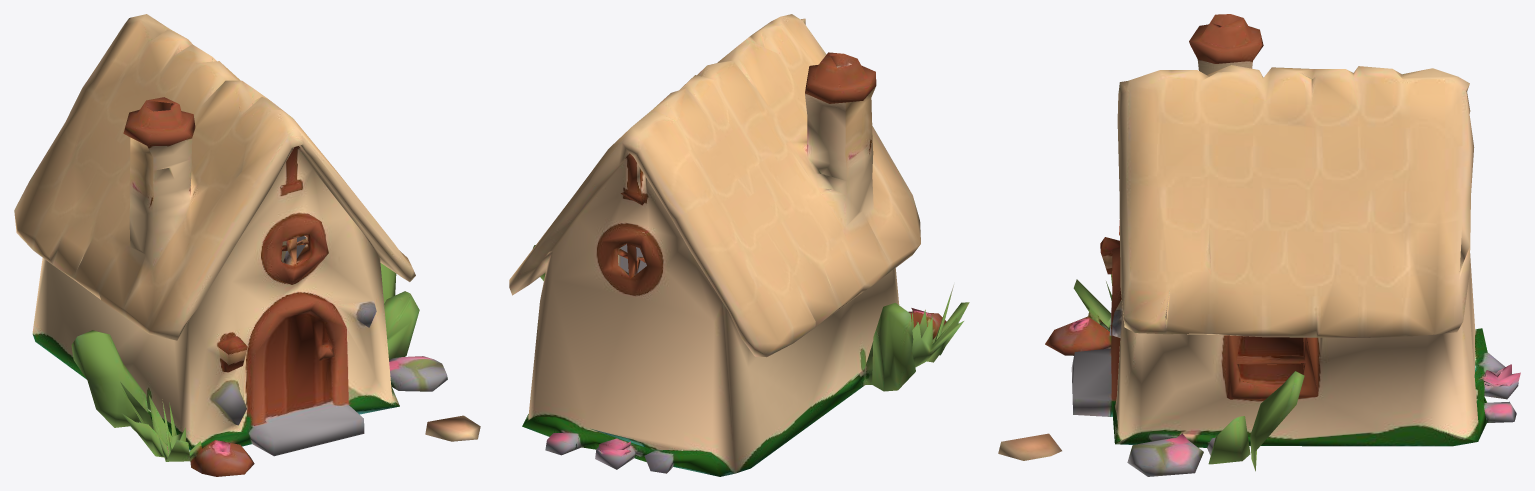
File: hut_1.glb
3 renders of one model, left to right at view 1: azimuth 30°, elevation 25°; view 2: azimuth 150°, elevation 25°; view 3: azimuth 270°, elevation 25°, orthographic. The views are drawn at different scales.
Visible parts, largest first — view 1: ЦІЛЬ; view 2: ЦІЛЬ; view 3: ЦІЛЬ.
Part boxes in pixels (x1,y1,x2,y2): ЦІЛЬ: (14,14,480,476); ЦІЛЬ: (509,14,969,476); ЦІЛЬ: (998,14,1520,476).
Bounding box in the file's own units: 1.66 × 1.42 × 2.06.
Materials: 1 (1 with a texture image).
